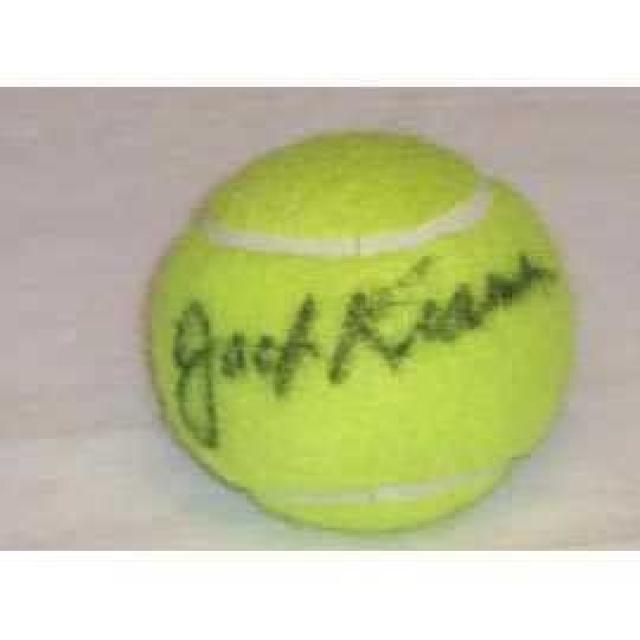Tennis_Ball: (140, 122, 560, 527)
